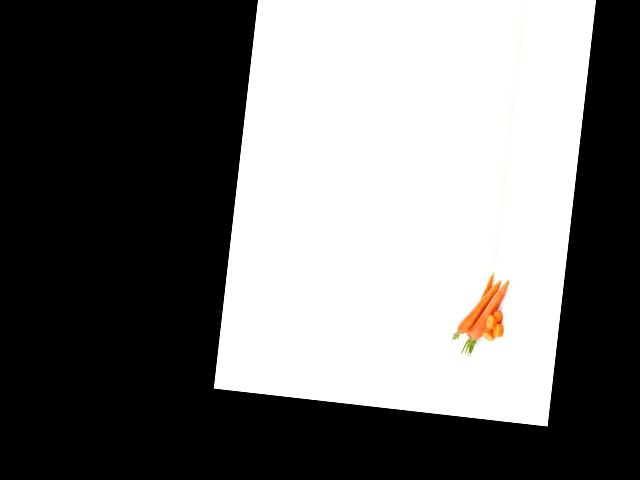carrot: (469, 276, 511, 346)
